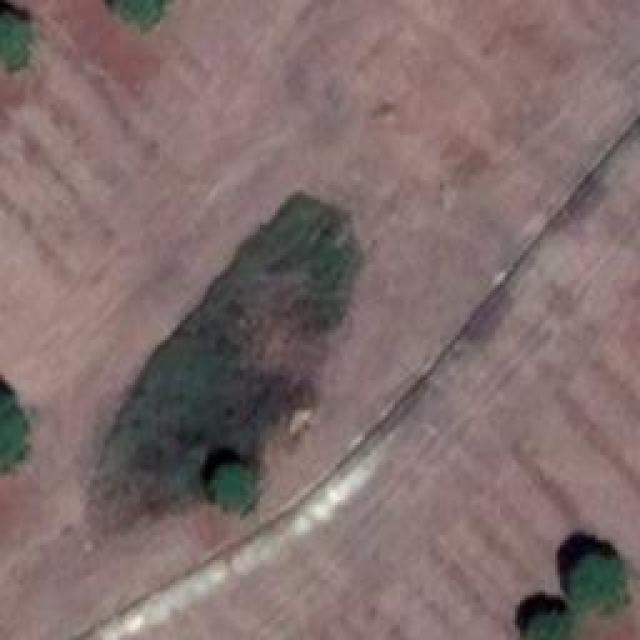Tree: (575, 557, 625, 615), (213, 465, 256, 515), (107, 0, 175, 30), (0, 398, 28, 463), (0, 15, 28, 70), (530, 615, 570, 640)
